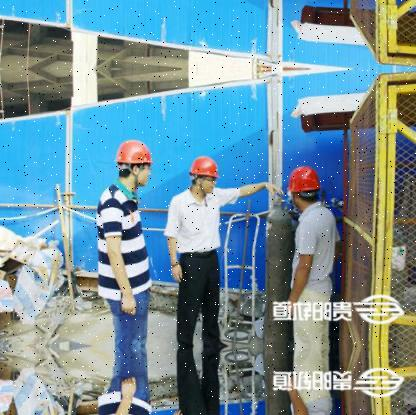helmet: (114, 133, 156, 190), (289, 161, 324, 211), (189, 152, 223, 197)
